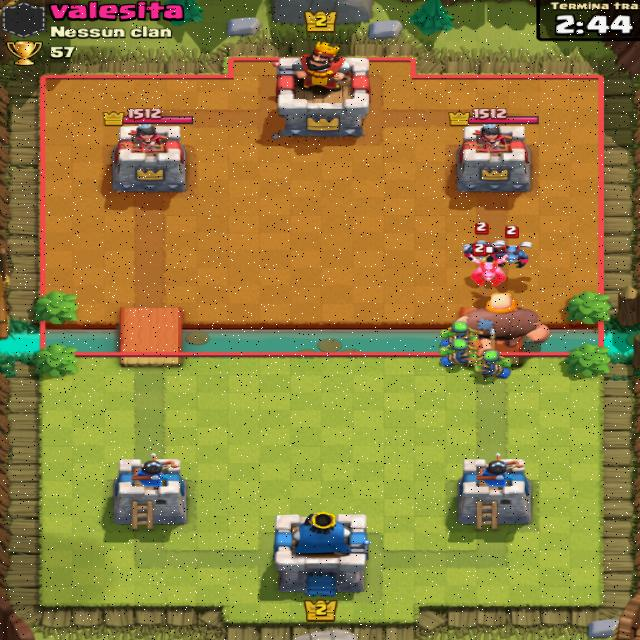Enemy-Minion: (494, 232, 533, 273), (466, 228, 502, 269)
Player-Giant: (465, 289, 555, 352)
Player-SpearGoblin: (438, 320, 492, 370), (471, 352, 509, 382)
